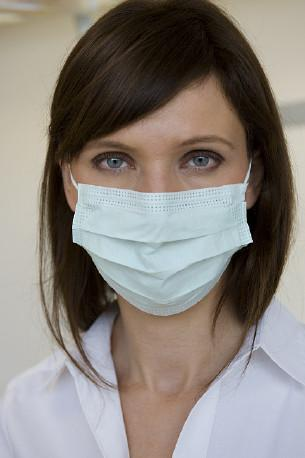OK: (72, 115, 264, 307)
